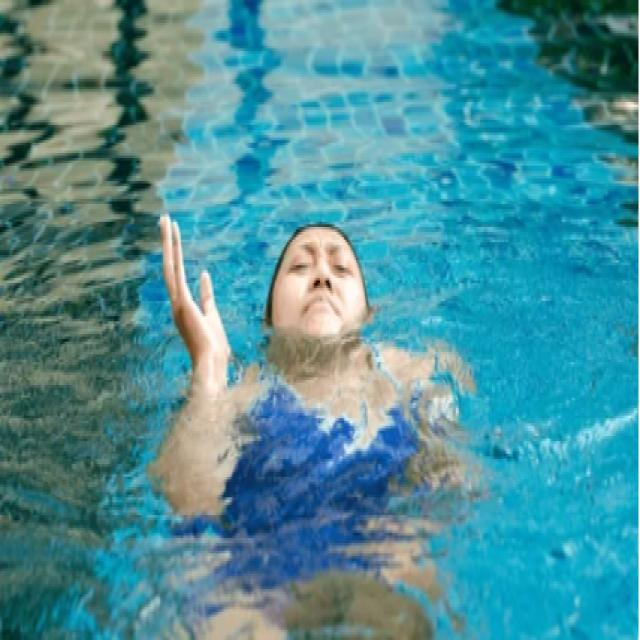Drowning: (140, 184, 494, 528)
